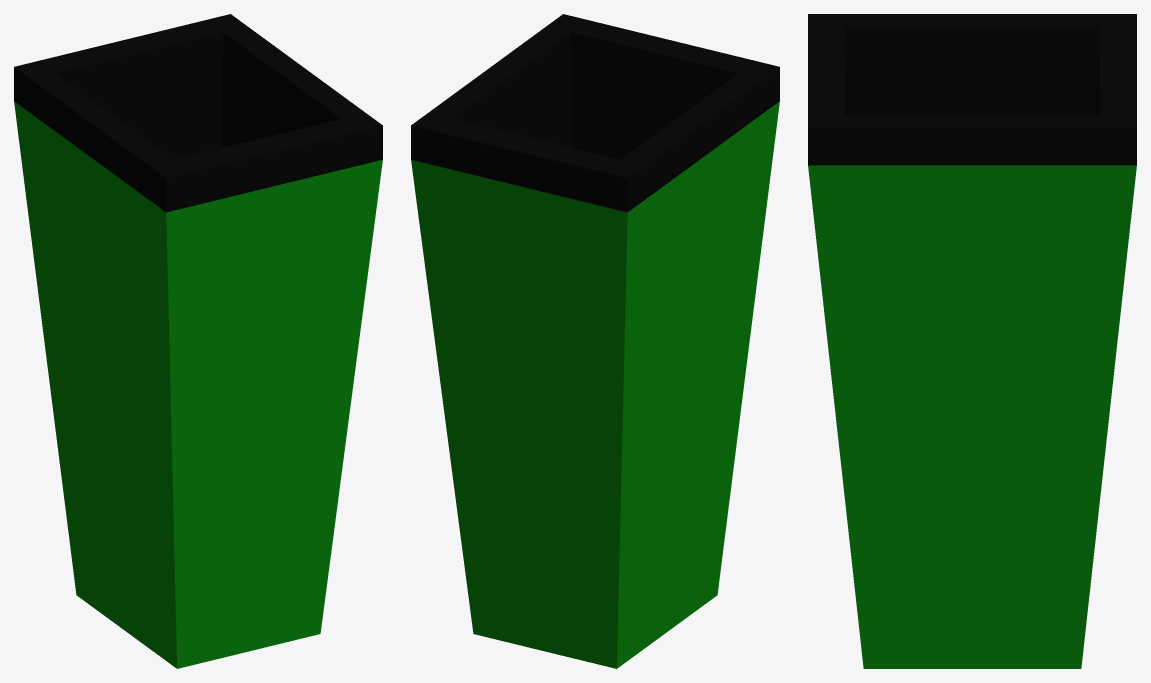
Rendered from TrashCan.fbx.
3 views of the same model, side by side, from view 1: azimuth 30°, elevation 25°; view 2: azimuth 150°, elevation 25°; view 3: azimuth 270°, elevation 25° (orthographic). The views are drawn at different scales.
Visible parts, largest first — view 1: Trash_Can; view 2: Trash_Can; view 3: Trash_Can.
Part boxes in pixels (left/top/right/bottom): Trash_Can: left=14, top=14, right=382, bottom=668; Trash_Can: left=411, top=14, right=779, bottom=668; Trash_Can: left=808, top=14, right=1136, bottom=668.
Bounding box in the file's own units: 0.8216 × 1 × 1.88.
